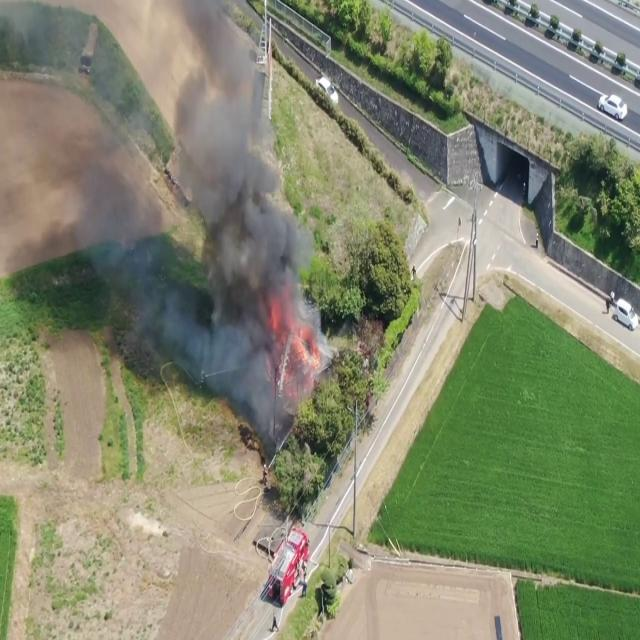Smoke: (0, 0, 320, 418)
